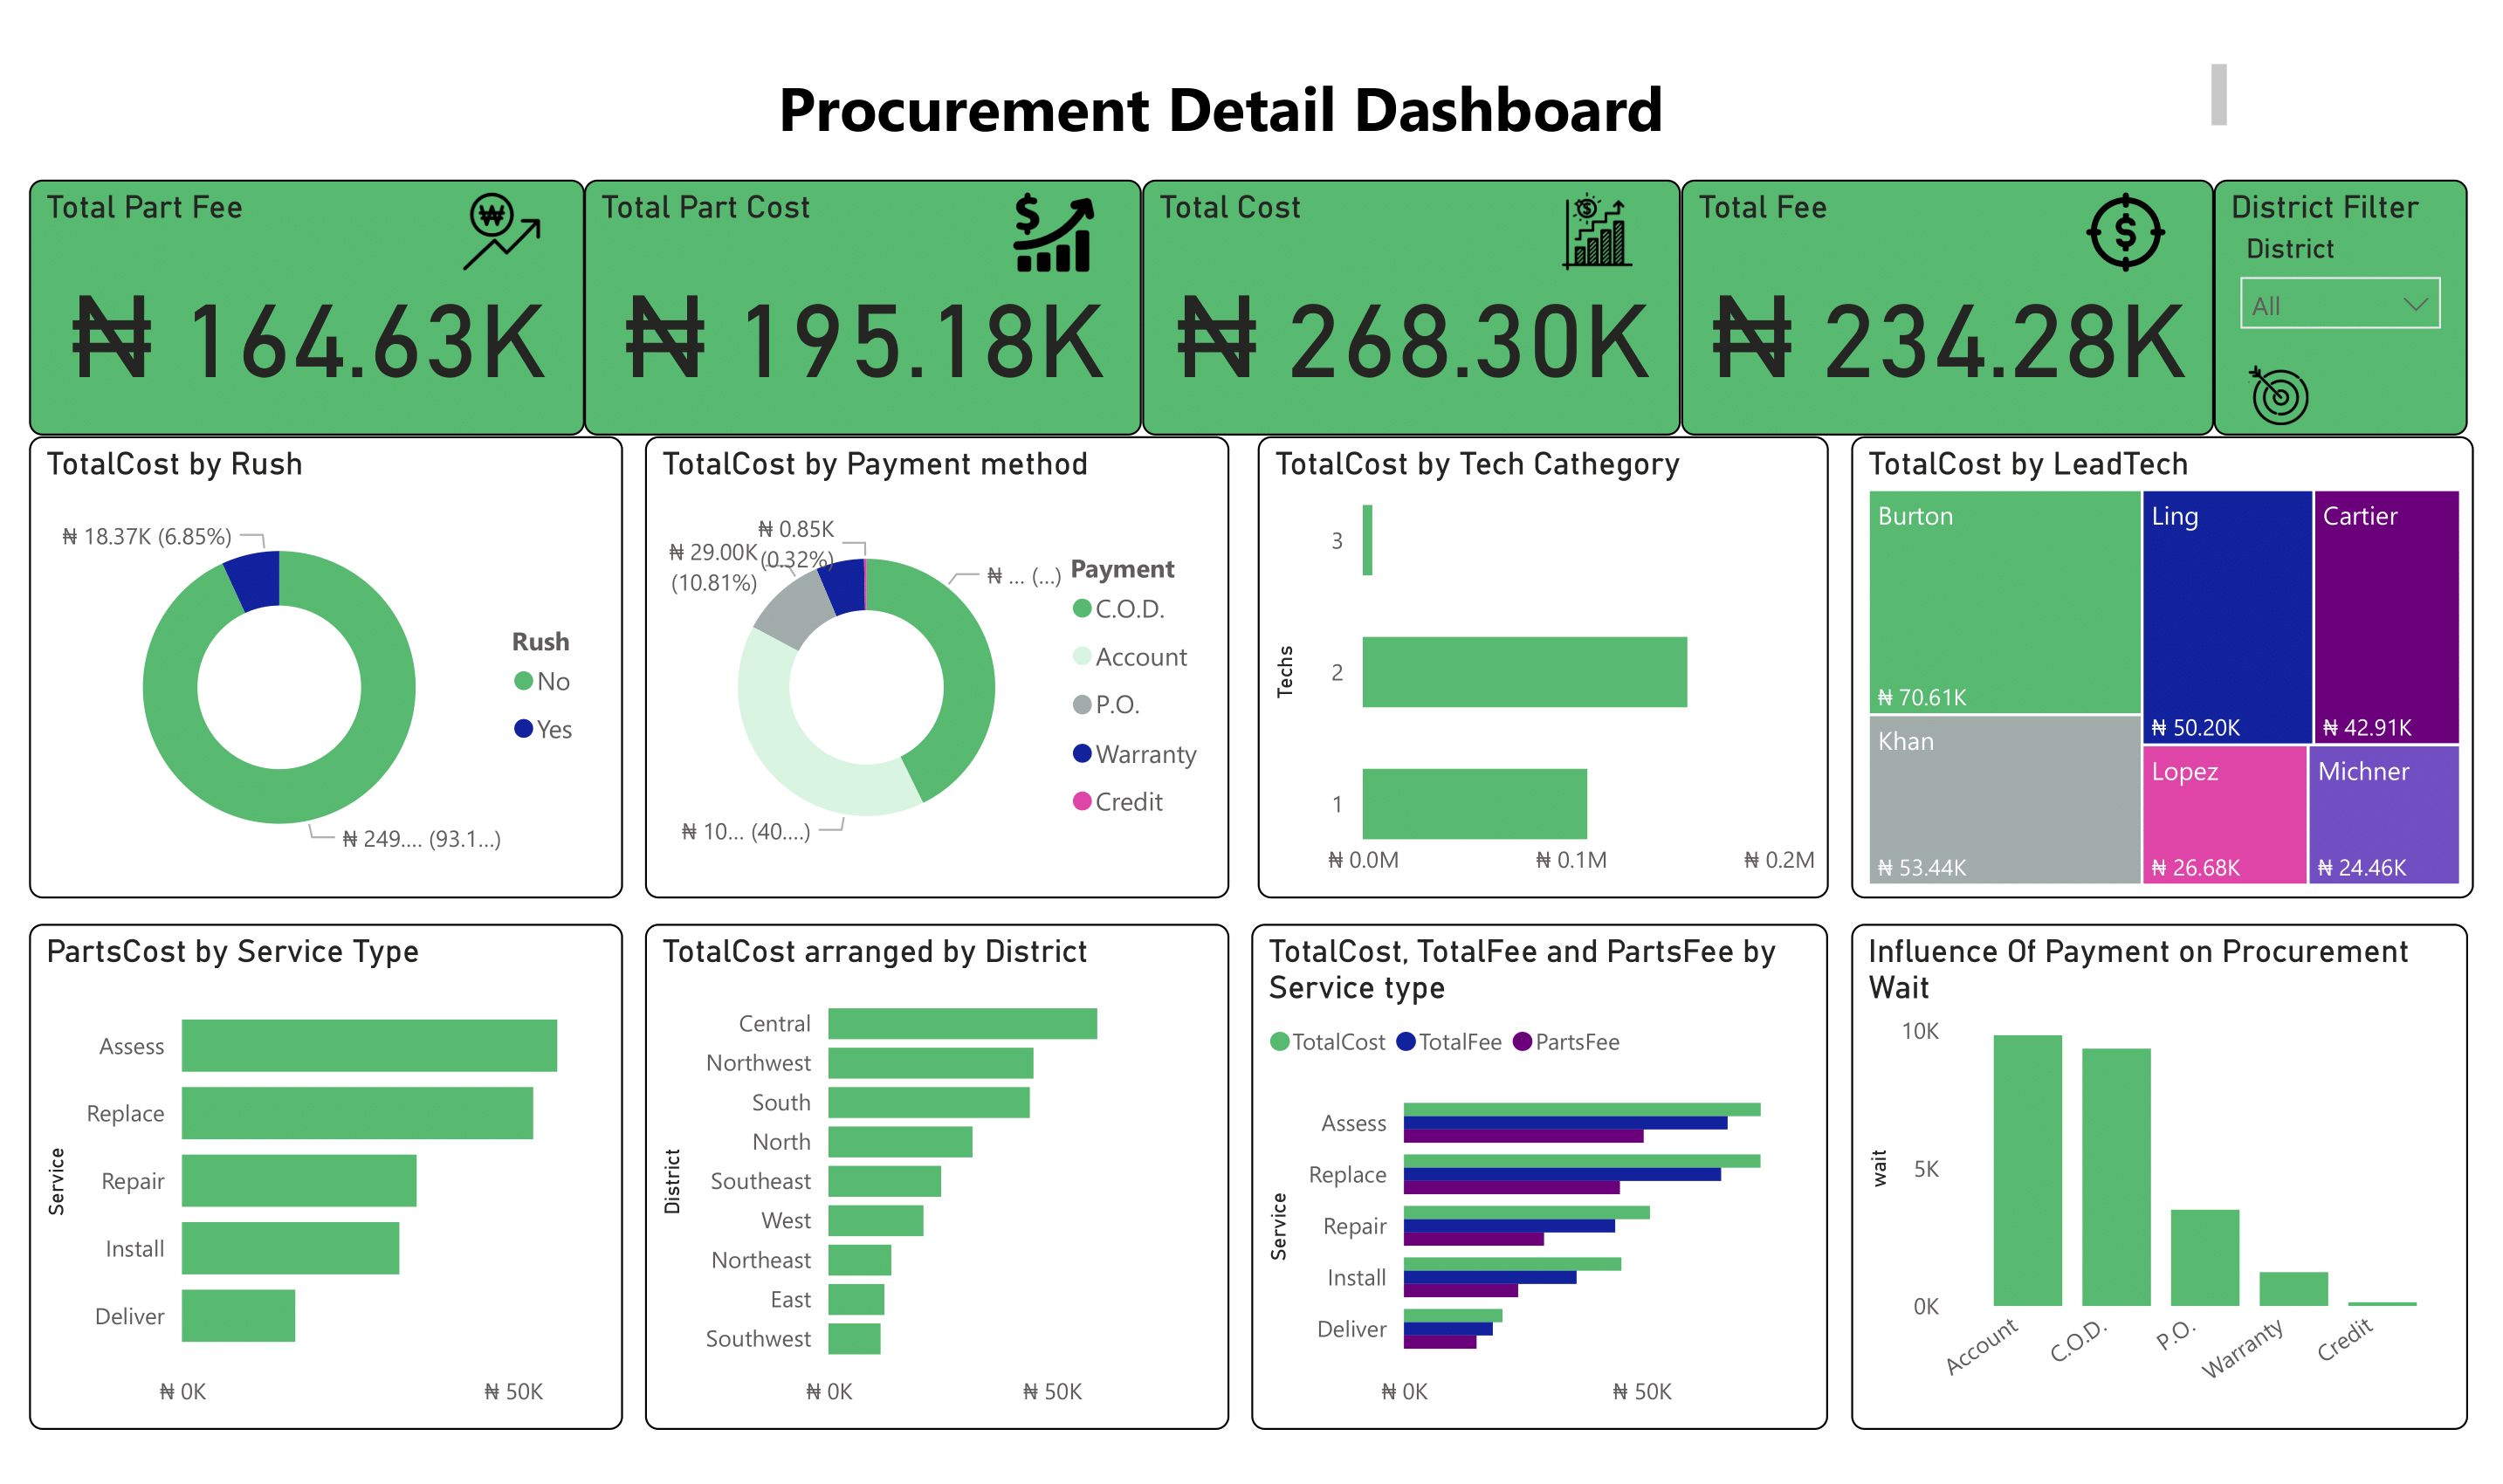

What the dashboard file says about the page in this screenshot:
{"tool":"powerbi","page":{"name":"Page 1","canvas":[1280,720],"ordinal":0},"visuals":[{"type":"card","title":"Total Part Fee","fields":{"Values":["WOs.PartsFee"]},"box":[0,65.5,290.6,134.4],"z":0},{"type":"card","title":"Total Part Cost","fields":{"Values":["WOs.PartsCost"]},"box":[290.6,65.5,292.3,134.4],"z":1000},{"type":"card","title":"Total Cost","fields":{"Values":["WOs.TotalCost"]},"box":[582.9,65.5,282.2,134.4],"z":2000},{"type":"clusteredBarChart","title":"TotalCost, TotalFee and PartsFee by Service type","fields":{"Category":["WOs.Service"],"Y":["WOs.TotalCost","WOs.TotalFee","WOs.PartsFee"]},"box":[640,455.2,302.4,265.4],"z":3000},{"type":"donutChart","title":"TotalCost by Payment method","fields":{"Category":["WOs.Payment"],"Y":["WOs.TotalCost"]},"box":[322.5,199.9,305.7,241.9],"z":4000},{"type":"card","title":"Total Fee","fields":{"Values":["WOs.TotalFee"]},"box":[865.1,65.5,278.8,134.4],"z":5000},{"type":"clusteredBarChart","title":"TotalCost by Tech Cathegory","fields":{"Category":["WOs.Techs"],"Y":["WOs.TotalCost"]},"box":[643.4,199.9,299,241.9],"z":6000},{"type":"treemap","fields":{"Group":["WOs.LeadTech"],"Values":["WOs.TotalCost"]},"box":[954.1,199.9,325.9,241.9],"z":7000},{"type":"donutChart","title":"TotalCost by Rush","fields":{"Category":["WOs.Rush"],"Y":["WOs.TotalCost"]},"box":[0,199.9,310.8,241.9],"z":8000},{"type":"clusteredBarChart","title":"PartsCost by Service Type","fields":{"Category":["WOs.Service"],"Y":["WOs.PartsCost"]},"box":[0,455.2,310.8,265.4],"z":9000},{"type":"clusteredColumnChart","title":"Influence Of Payment on Procurement Wait","fields":{"Category":["WOs.Payment"],"Y":["WOs.wait"]},"box":[954.1,455.2,322.5,265.4],"z":10000},{"type":"clusteredBarChart","title":"TotalCost arranged by District","fields":{"Category":["WOs.District"],"Y":["WOs.TotalCost"]},"box":[322.5,455.2,305.7,265.4],"z":11000},{"type":"slicer","title":"District Filter","fields":{"Values":["WOs.District"]},"box":[1143.9,65.5,132.7,134.4],"z":11001},{"type":"textbox","box":[100.8,0,1054.9,47],"z":11002},{"type":"image","box":[1143.9,156.2,67.2,43.7],"z":11003},{"type":"image","box":[213.3,65.5,67.2,53.8],"z":11004},{"type":"image","box":[500.6,65.5,70.6,55.4],"z":11005},{"type":"image","box":[791.2,65.5,60.5,53.8],"z":11006},{"type":"image","box":[1063.3,65.5,68.9,55.4],"z":11007}]}

Visuals, with their boxes in screenshot pixels (x1, y1, x2, y2):
"Total Part Fee" card: left=13, top=172, right=574, bottom=431
"Total Part Cost" card: left=574, top=172, right=1137, bottom=431
"Total Cost" card: left=1137, top=172, right=1681, bottom=431
"TotalCost, TotalFee and PartsFee by Service type" clusteredBarChart: left=1248, top=924, right=1831, bottom=1435
"TotalCost by Payment method" donutChart: left=635, top=431, right=1225, bottom=897
"Total Fee" card: left=1681, top=172, right=2219, bottom=431
"TotalCost by Tech Cathegory" clusteredBarChart: left=1254, top=431, right=1831, bottom=897
treemap - WOs.LeadTech x WOs.TotalCost: left=1853, top=431, right=2481, bottom=897
"TotalCost by Rush" donutChart: left=13, top=431, right=612, bottom=897
"PartsCost by Service Type" clusteredBarChart: left=13, top=924, right=612, bottom=1435
"Influence Of Payment on Procurement Wait" clusteredColumnChart: left=1853, top=924, right=2475, bottom=1435
"TotalCost arranged by District" clusteredBarChart: left=635, top=924, right=1225, bottom=1435
"District Filter" slicer: left=2219, top=172, right=2475, bottom=431
textbox: left=208, top=45, right=2242, bottom=136
image: left=2219, top=347, right=2348, bottom=431
image: left=424, top=172, right=554, bottom=276
image: left=979, top=172, right=1115, bottom=278
image: left=1539, top=172, right=1655, bottom=276
image: left=2064, top=172, right=2197, bottom=278
